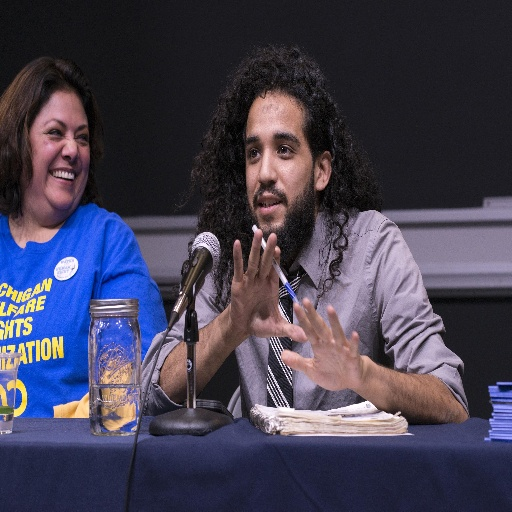hand: (221, 223, 289, 361), (279, 295, 366, 393)
